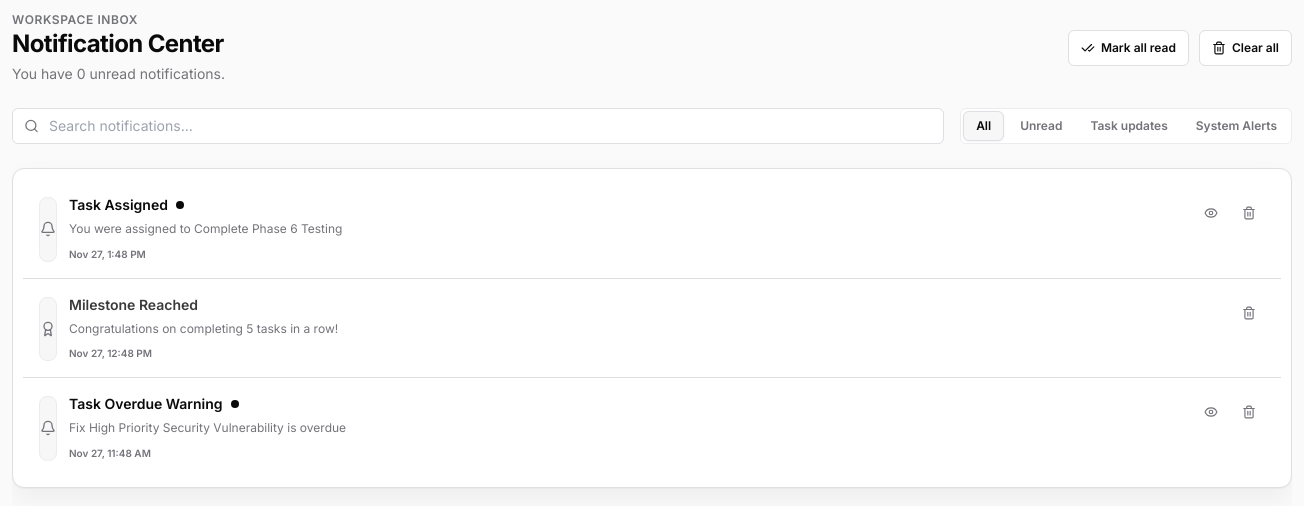
Notifications Component Testing › filters notifications by unread tab
Click the button "Unread": (1041, 126) top-left (1008, 111), bottom-right (1074, 141)
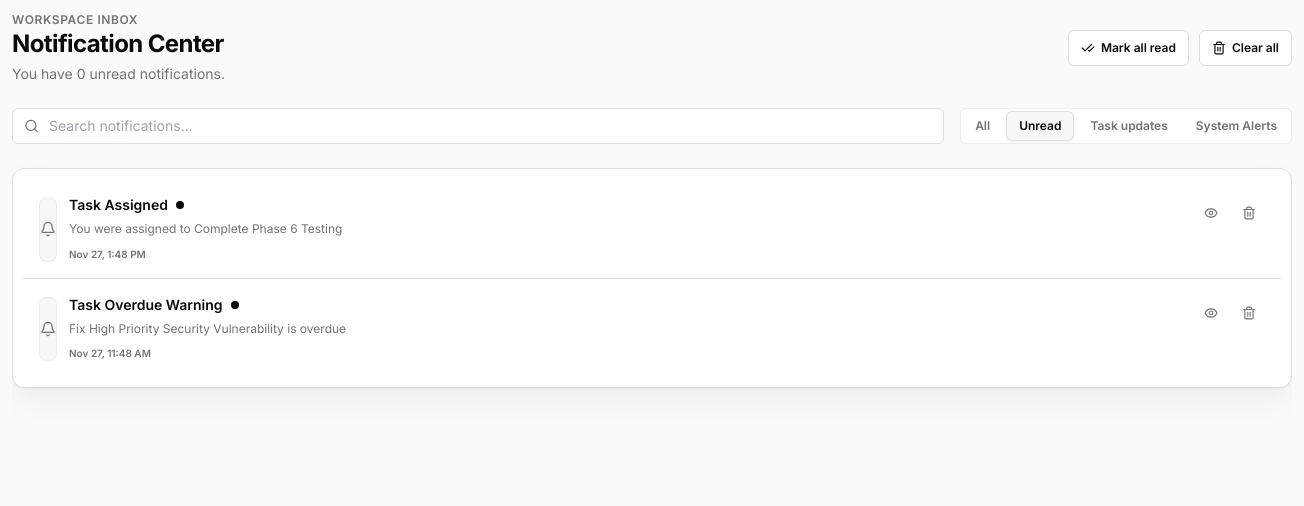
Check: the heading "Task Assigned" is shown, box top-left (69, 195), bottom-right (168, 215)
Check: the heading "Milestone Reached" is gone
